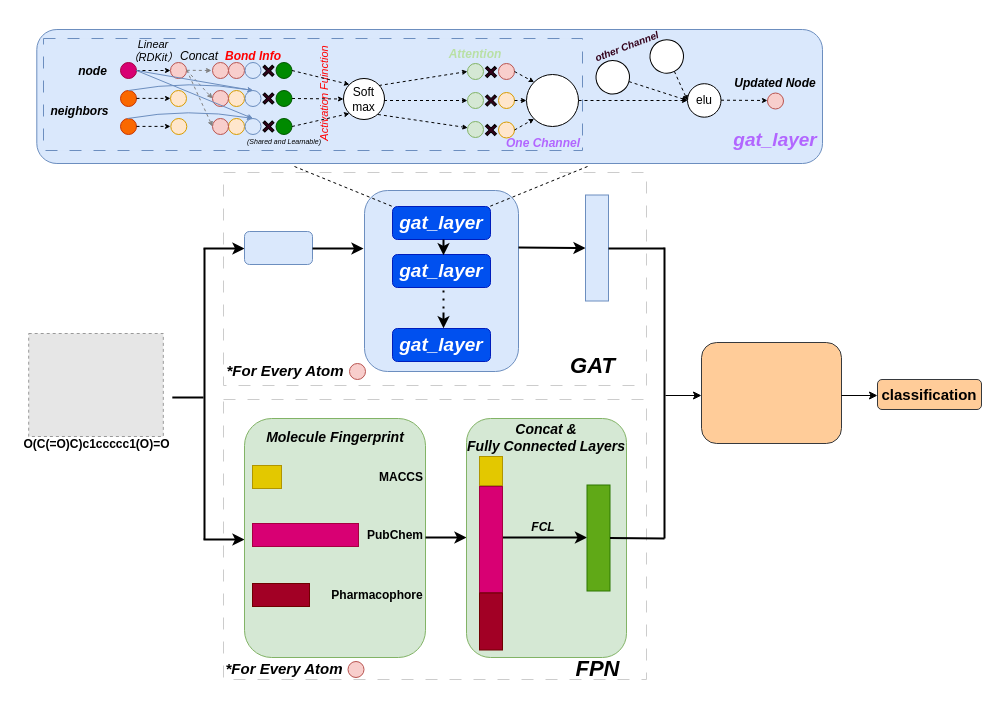
Some shapes in this 1000 by 706 pixel diagram are drawn without their labels. Grey dashed boxes stand in for pictures. Here are the shapes that lost their labels. From the top down, the box of each, then its label:
(526, 74, 578, 126): sum&elu
(244, 230, 312, 264): Graph
(700, 342, 842, 444): Cross-Attention & Feed-Forward
